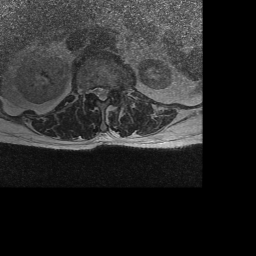CCS_stenosis: (99, 83, 105, 106)
LFS_severe_stenosis: (111, 82, 116, 98)
LLS_stenosis: (105, 83, 110, 99)
RFS_stenosis: (88, 84, 94, 100)
RLS_normal: (93, 83, 99, 101)
